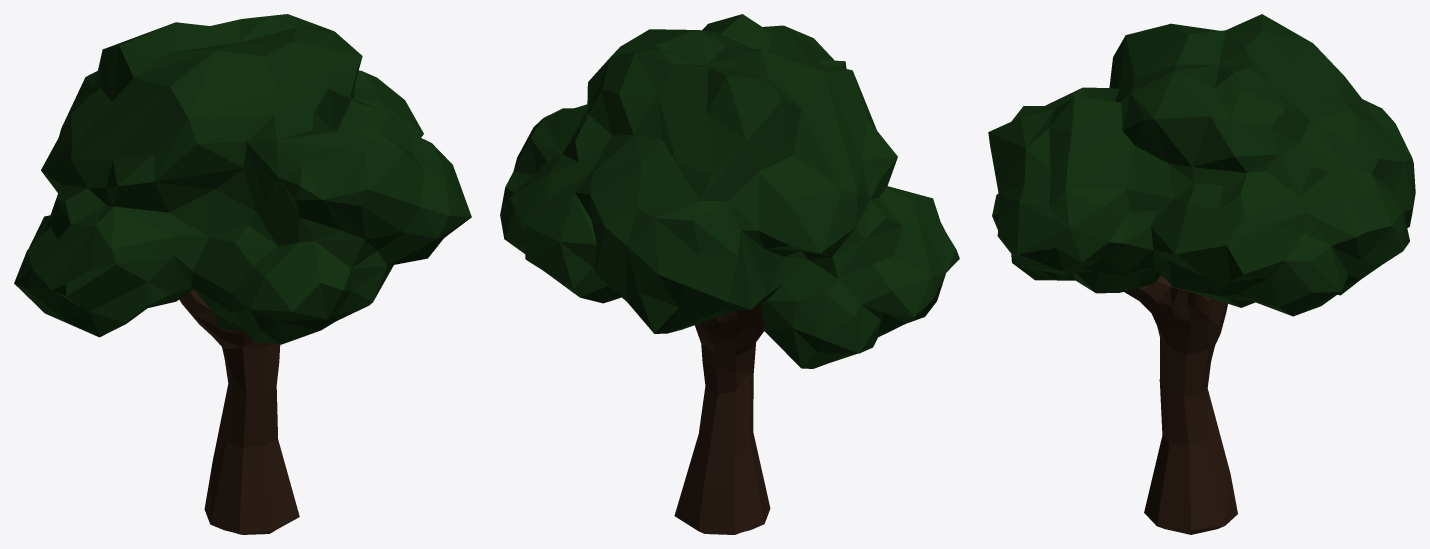
The model's file is tree2.obj.
The picture shows the model from 3 angles, left to right: view 1: azimuth 30°, elevation 25°; view 2: azimuth 150°, elevation 25°; view 3: azimuth 270°, elevation 25°; orthographic projection. The views are drawn at different scales.
Visible parts, largest first — view 1: tree_5_Cube.011; view 2: tree_5_Cube.011; view 3: tree_5_Cube.011.
Boxes of the visible parts, x1=… form: tree_5_Cube.011: x1=14, y1=14, x2=471, y2=534; tree_5_Cube.011: x1=500, y1=14, x2=959, y2=534; tree_5_Cube.011: x1=988, y1=14, x2=1415, y2=534.
Size of the model in its own units: 5.3 by 6.25 by 5.06.
